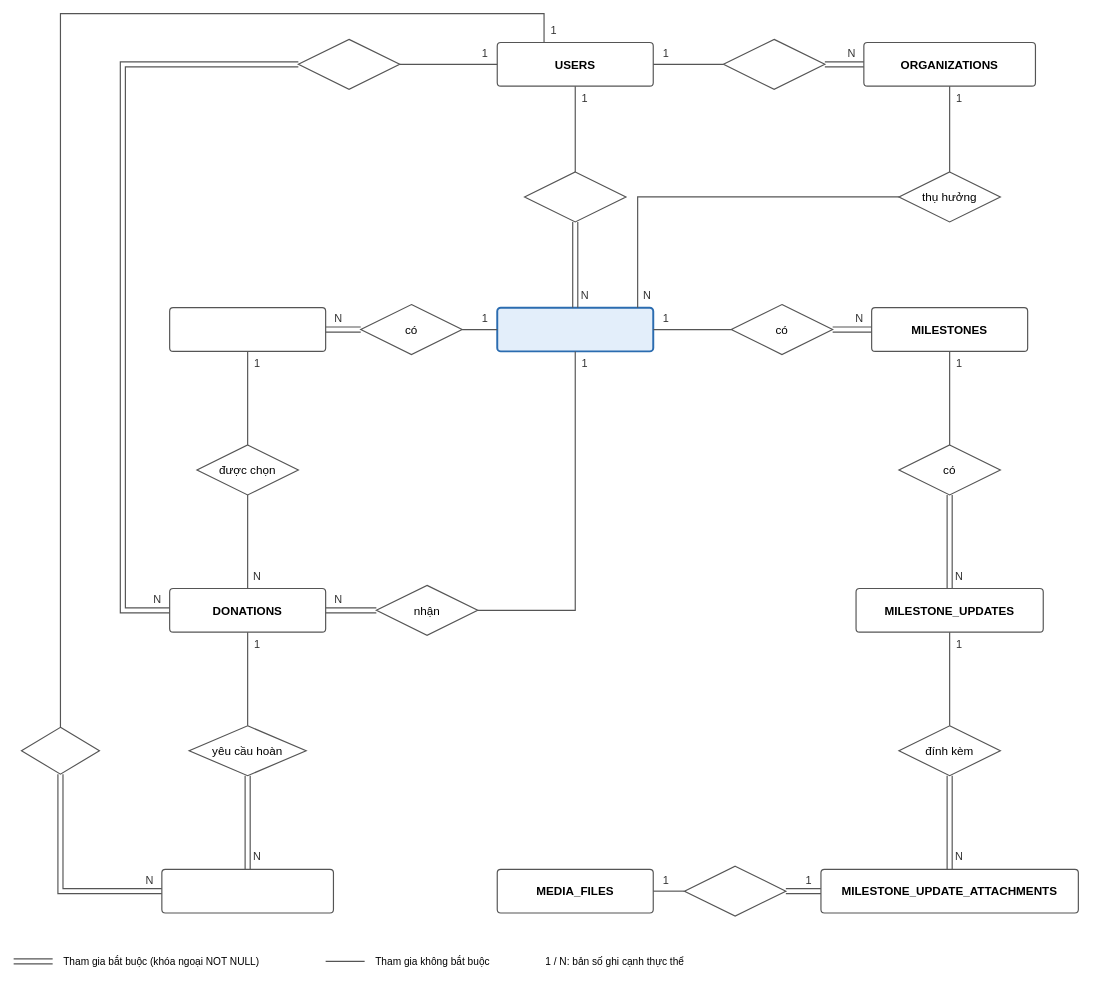
Some shapes in this 1093 by 983 pixel diagram are drawn without their labels. Each missing label, with the box of its shape:
CAMPAIGNS: (496, 306, 654, 352)
gửi: (21, 726, 100, 774)
là chứng từ: (684, 865, 786, 916)
REFUND_REQUESTS: (161, 868, 334, 913)
REWARD_TIERS: (169, 307, 326, 352)
tạo: (524, 171, 626, 222)
đại diện: (723, 38, 825, 90)
ủng hộ: (297, 38, 400, 90)
